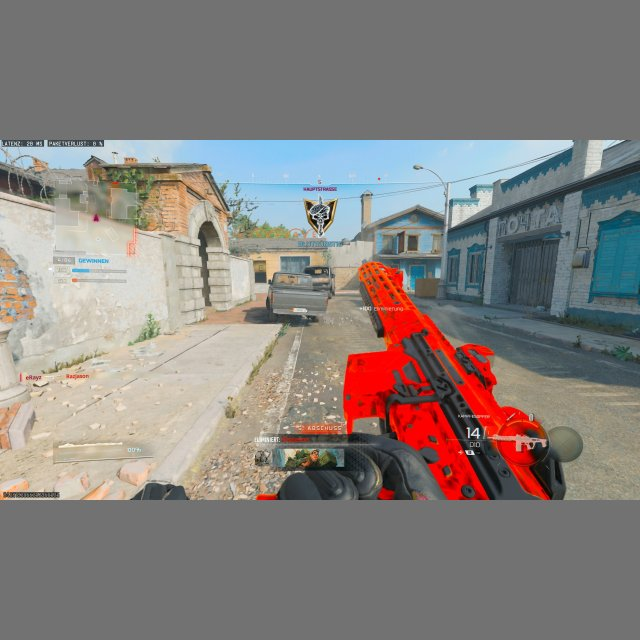player: (0, 239, 37, 365)
